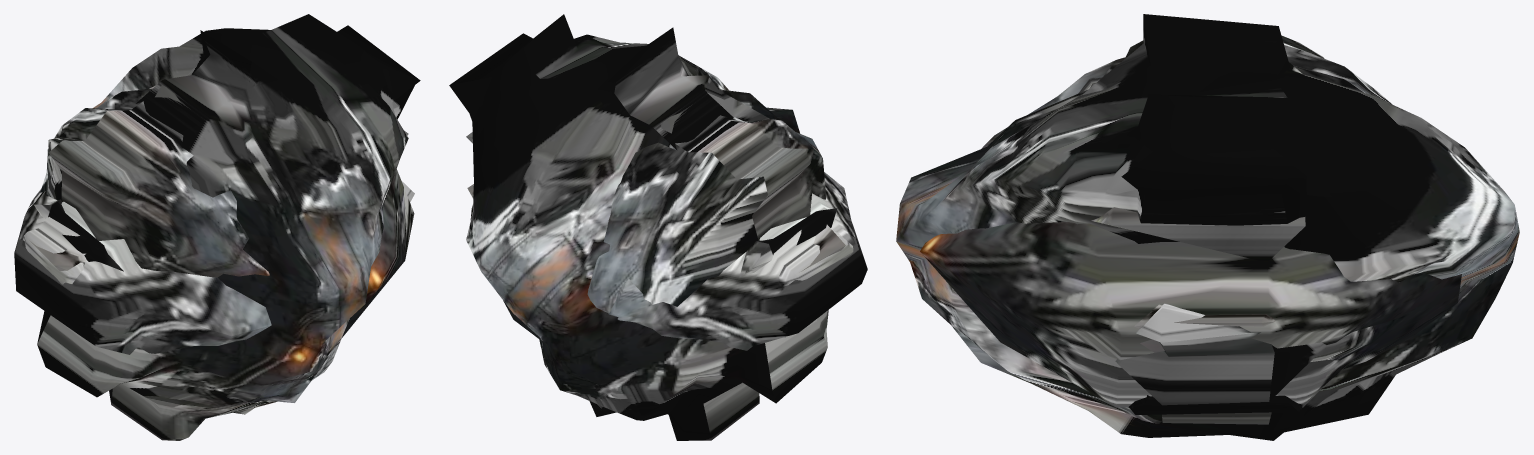
The model's file is ast_hurda.glb.
The picture shows the model from 3 angles, left to right: view 1: azimuth 30°, elevation 25°; view 2: azimuth 150°, elevation 25°; view 3: azimuth 270°, elevation 25°; orthographic projection. The views are drawn at different scales.
Visible parts, largest first — view 1: AST_hurda_3, AST_hurda_2, PICK_hurda, AST_hurda_1; view 2: AST_hurda_3, AST_hurda_2, PICK_hurda, AST_hurda_1; view 3: AST_hurda_3, PICK_hurda, AST_hurda_2, AST_hurda_1.
Boxes of the visible parts, <box> form: AST_hurda_3: <box>34,14,420,440</box>; AST_hurda_2: <box>29,88,414,277</box>; PICK_hurda: <box>14,130,414,354</box>; AST_hurda_1: <box>22,85,180,285</box>; AST_hurda_3: <box>449,14,837,440</box>; AST_hurda_2: <box>587,115,845,313</box>; PICK_hurda: <box>466,132,867,350</box>; AST_hurda_1: <box>467,112,853,337</box>; AST_hurda_3: <box>896,14,1519,440</box>; PICK_hurda: <box>920,207,1461,407</box>; AST_hurda_2: <box>981,35,1404,424</box>; AST_hurda_1: <box>1134,304,1334,376</box>.
Bounding box in the file's own units: 1.05 × 1.02 × 1.26.
1 material, 1 textured.
